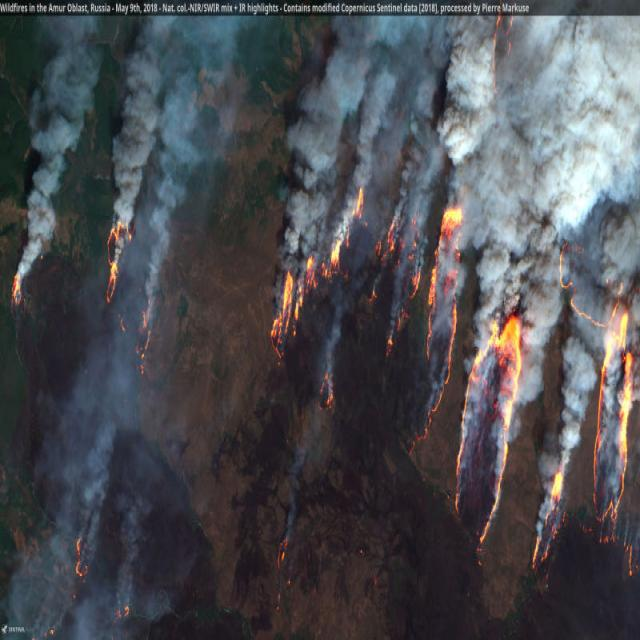Fire: (266, 200, 460, 448), (527, 252, 640, 586), (452, 314, 526, 564), (108, 222, 156, 379), (70, 532, 130, 640), (11, 274, 24, 306)
Smoke: (0, 0, 640, 524)
